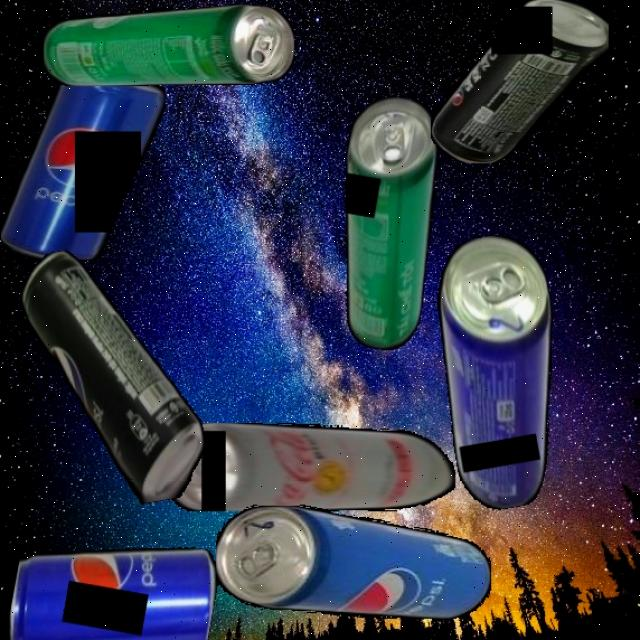debris: (13, 233, 214, 518), (420, 228, 584, 515), (314, 90, 456, 354), (1, 67, 166, 260), (216, 504, 491, 618), (430, 0, 608, 163), (2, 519, 223, 640), (166, 422, 456, 511), (43, 5, 294, 86)
